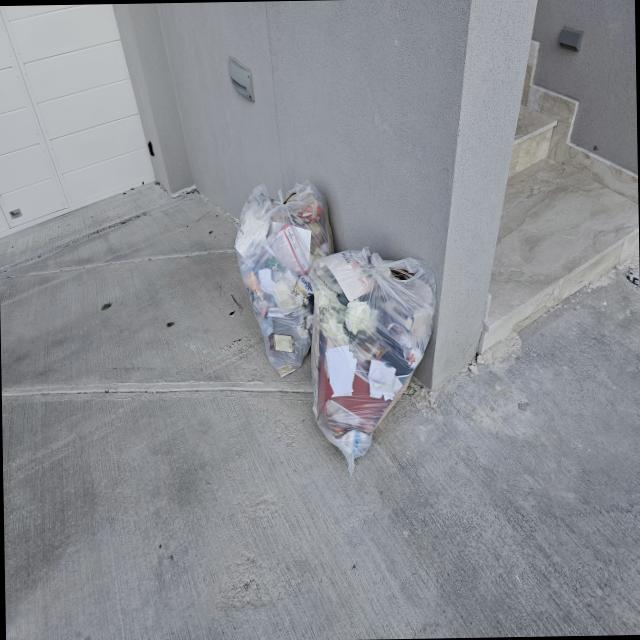grey_bag: (308, 248, 439, 460), (232, 178, 337, 377)
